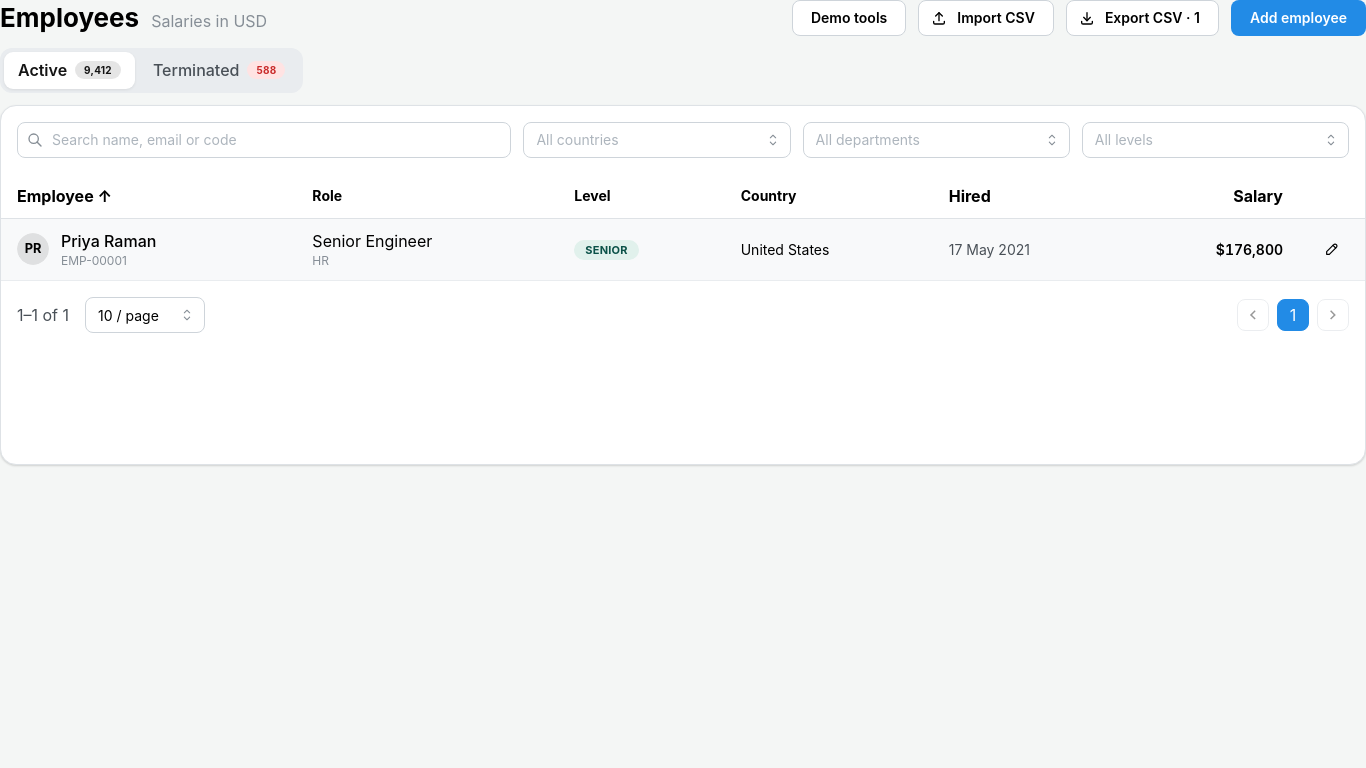
it: EmployeesPage › terminating › terminates from the Edit modal, closes both modals and refreshes the list
The image size is (1366, 768).
Expected: the text "Priya Raman" is shown, [61,229,156,253]
Click the button named "Edit Priya Raman".
click(1332, 249)  # box [1315,232,1349,266]
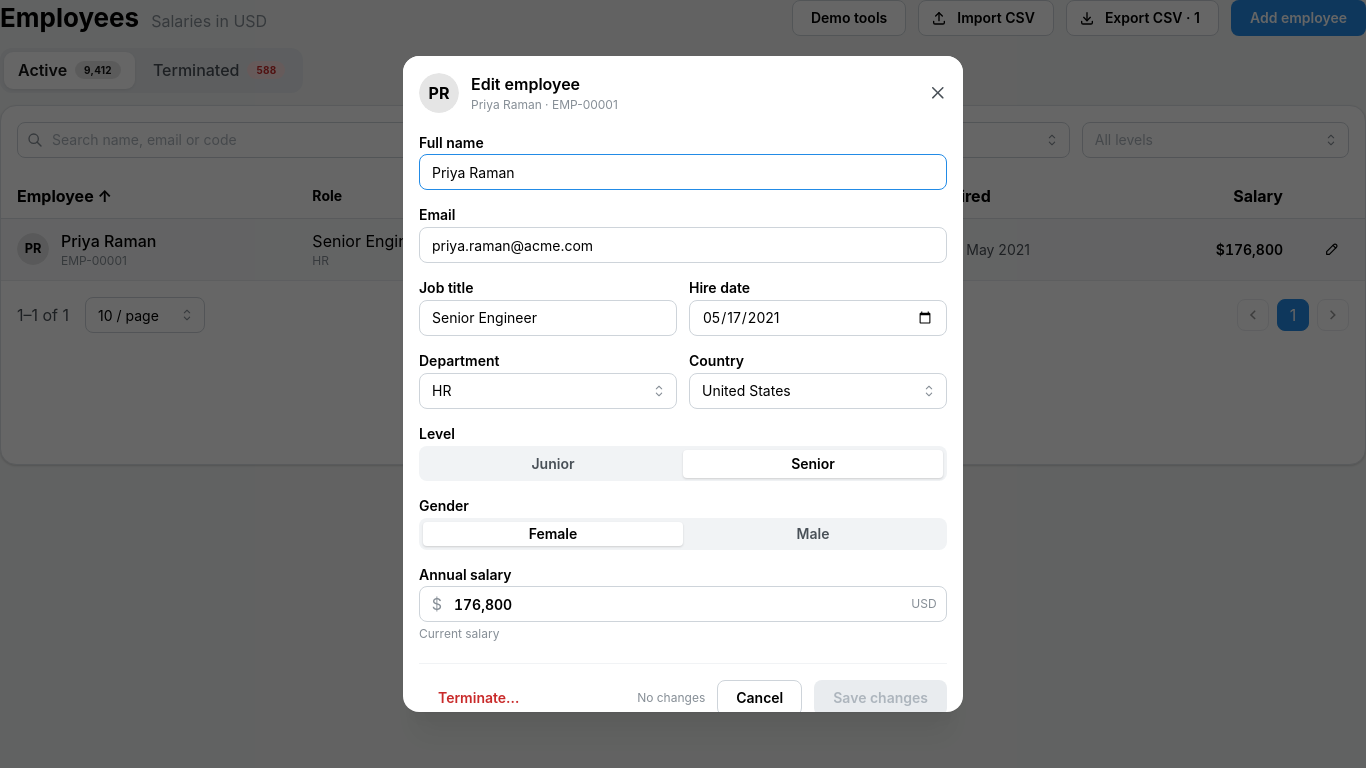
Click the button "Terminate…".
click(479, 698)  # box [419,680,538,716]
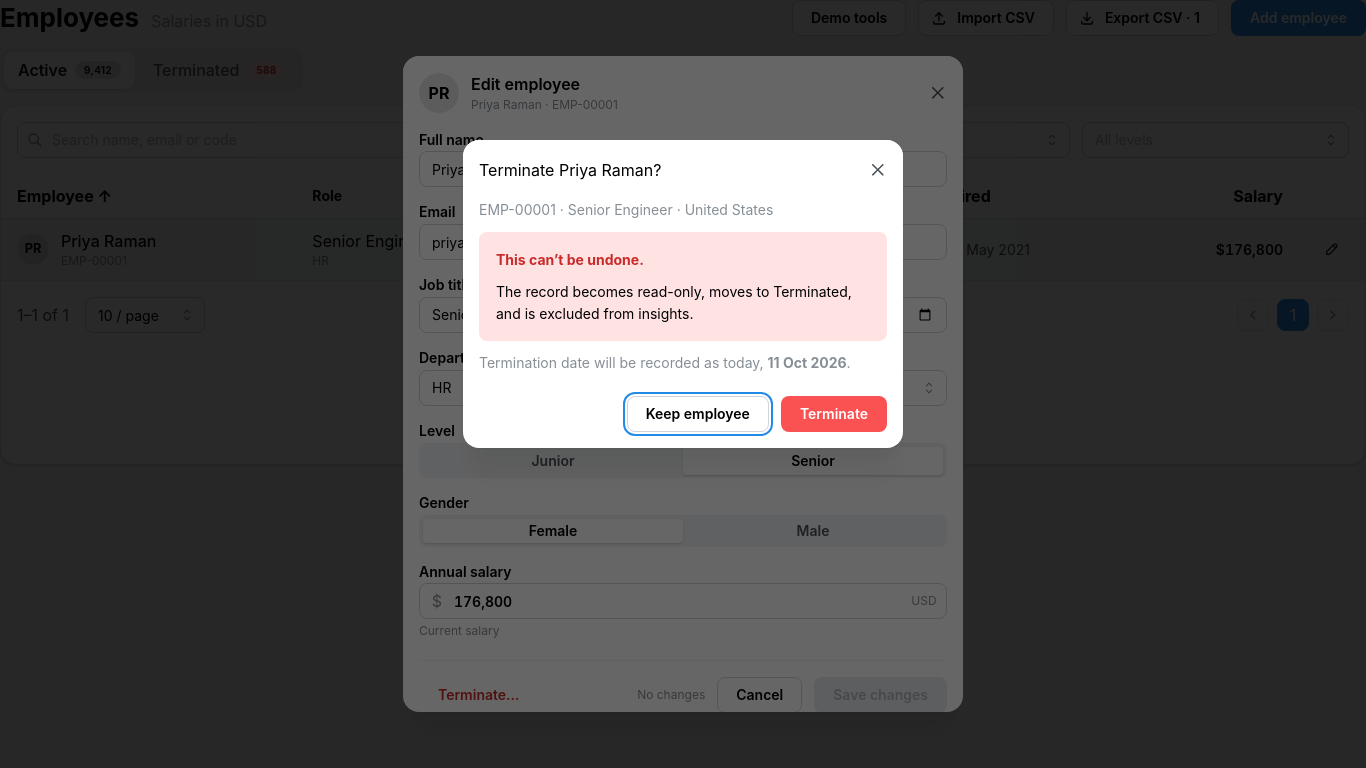
Result: the text "This can’t be undone." is shown at [496,249,644,271]
Result: the text "Termination date will be recorded as today, 11 Oct 2026." is shown at [479,353,887,374]
Result: the text "11 Oct 2026" is shown at [768,354,846,371]
Click the button "Terminate".
click(834, 414)  # box [781,396,887,432]
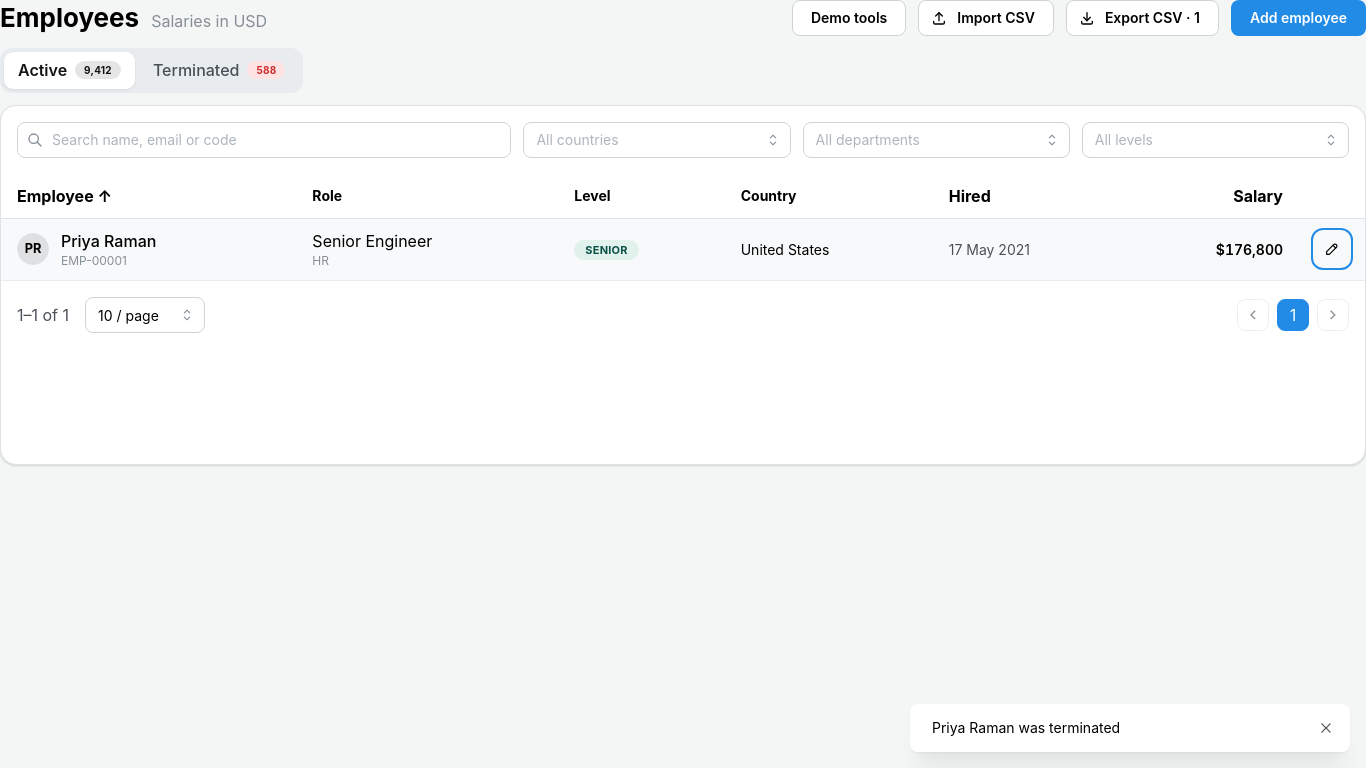
Result: the dialog is gone
